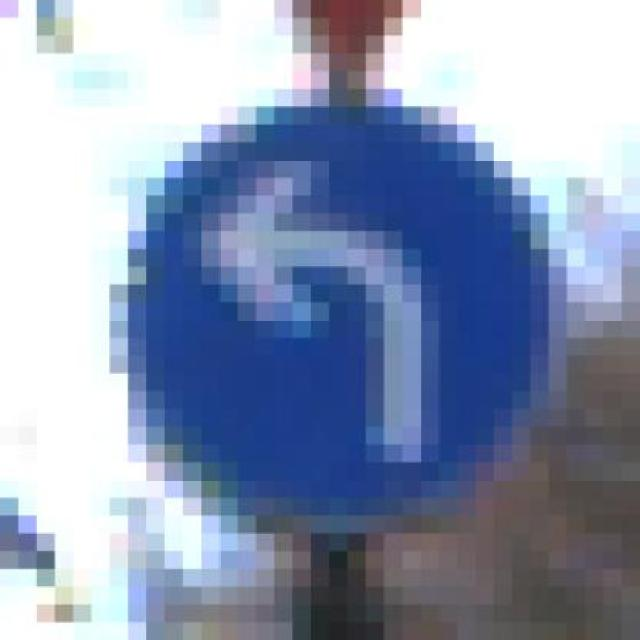Turn left ahead: (110, 89, 567, 516)
